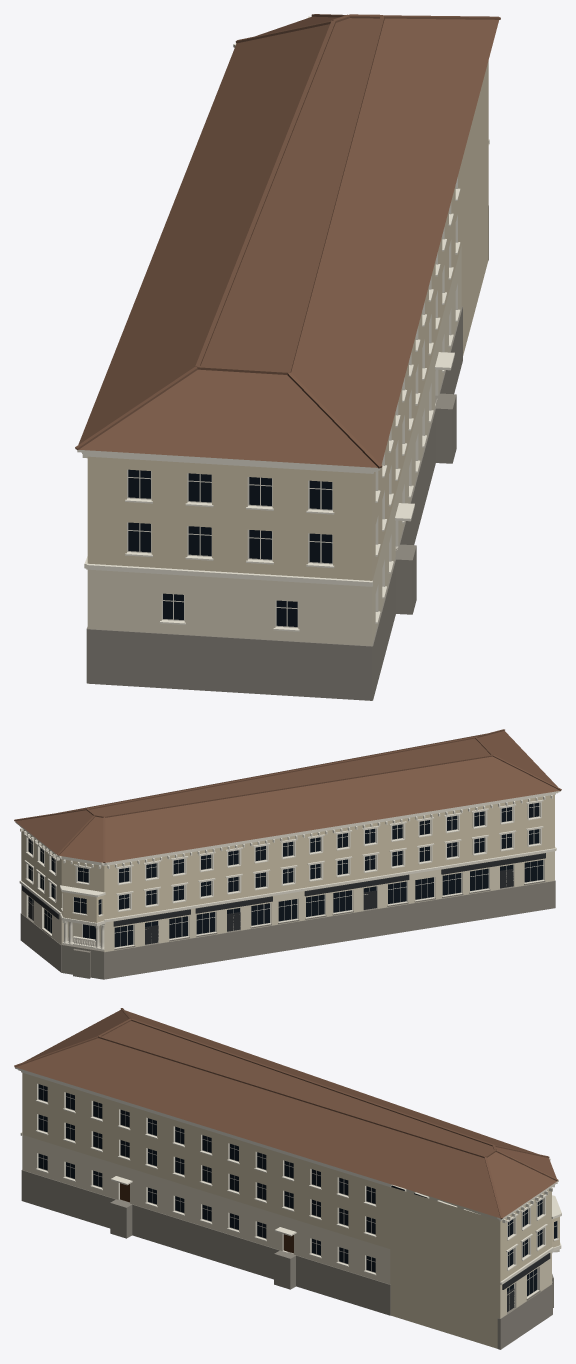
The model's file is genpetrova1.glb.
3 renders of one model, top to bottom at view 1: azimuth 30°, elevation 25°; view 2: azimuth 150°, elevation 25°; view 3: azimuth 270°, elevation 25°, orthographic. The views are drawn at different scales.
Parts seen in each view (by area): view 1: genpetrova1_roof, genpetrova1_wall, genpetrova1_stone, genpetrova1_wall2, genpetrova1_trim, genpetrova1_glass; view 2: genpetrova1_roof, genpetrova1_wall, genpetrova1_stone, genpetrova1_trim, genpetrova1_glass, genpetrova1_wall2, genpetrova1_metal, genpetrova1_trim_s; view 3: genpetrova1_roof, genpetrova1_wall, genpetrova1_stone, genpetrova1_wall2, genpetrova1_trim, genpetrova1_glass, genpetrova1_metal.
Part boxes in pixels (left/top/right/bottom): genpetrova1_roof: left=75, top=14, right=500, bottom=468; genpetrova1_wall: left=87, top=61, right=488, bottom=580; genpetrova1_stone: left=86, top=205, right=488, bottom=700; genpetrova1_wall2: left=87, top=245, right=461, bottom=645; genpetrova1_trim: left=77, top=16, right=489, bottom=631; genpetrova1_glass: left=128, top=469, right=332, bottom=626; genpetrova1_roof: left=14, top=729, right=561, bottom=862; genpetrova1_wall: left=21, top=794, right=554, bottom=926; genpetrova1_stone: left=20, top=880, right=555, bottom=979; genpetrova1_trim: left=15, top=791, right=560, bottom=950; genpetrova1_glass: left=28, top=802, right=543, bottom=947; genpetrova1_wall2: left=21, top=851, right=554, bottom=951; genpetrova1_metal: left=22, top=853, right=545, bottom=944; genpetrova1_trim_s: left=63, top=921, right=104, bottom=948; genpetrova1_roof: left=14, top=1008, right=557, bottom=1218; genpetrova1_wall: left=22, top=1072, right=559, bottom=1348; genpetrova1_stone: left=21, top=1170, right=553, bottom=1349; genpetrova1_wall2: left=22, top=1134, right=551, bottom=1318; genpetrova1_trim: left=15, top=1067, right=561, bottom=1310; genpetrova1_glass: left=38, top=1084, right=556, bottom=1296; genpetrova1_metal: left=502, top=1253, right=550, bottom=1311.
Bounding box in the file's own units: 48.94 × 17.42 × 54.
